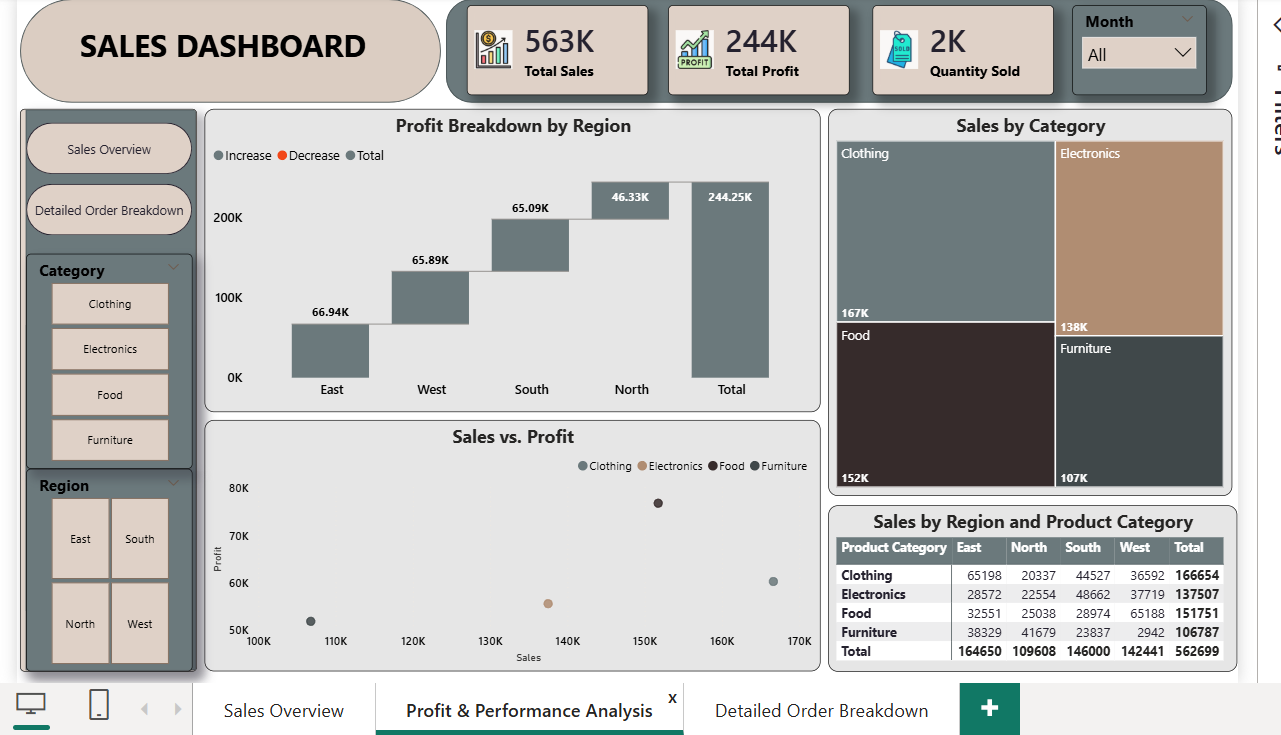

Layout of this report page (visuals, bound fields, positions):
{"tool":"powerbi","page":{"name":"Profit & Performance Analysis","canvas":[1280,720],"ordinal":1},"visuals":[{"type":"shape","box":[3.2,118.3,185.5,590.1],"z":0},{"type":"shape","box":[444.6,3.2,829.9,108.7],"z":1000},{"type":"waterfallChart","title":"Profit Breakdown by Region ","fields":{"Y":["Sum(Sales_Data (1).Profit)"],"Category":["Sales_Data (1).Region"]},"box":[196.7,118.3,646,318.2],"z":2000},{"type":"scatterChart","title":"Sales vs. Profit ","fields":{"Category":["Sales_Data (1).Product Category"],"Y":["Sales_Data (1).Total Profit"],"X":["Sales_Data (1).Total Sales"],"Series":["Sales_Data (1).Product Category"]},"box":[196.7,444.6,646,263.9],"z":3000},{"type":"slicer","fields":{"Values":["Sales_Data (1).Date.Variation.Date Hierarchy.Month"]},"box":[1106.6,9.6,140.7,94.3],"z":4000},{"type":"slicer","fields":{"Values":["Sales_Data (1).Region"]},"box":[9.6,495.7,174.3,212.7],"z":5000},{"type":"slicer","fields":{"Values":["Sales_Data (1).Product Category"]},"box":[9.6,270.2,174.3,225.5],"z":6000},{"type":"treemap","title":"Sales by Category ","fields":{"Values":["Sales_Data (1).Total Sales"],"Group":["Sales_Data (1).Product Category"]},"box":[850.7,118.3,423.8,406.2],"z":7000},{"type":"pivotTable","title":"Sales by Region and Product Category ","fields":{"Columns":["Sales_Data (1).Region"],"Rows":["Sales_Data (1).Product Category"],"Values":["Sales_Data (1).Total Sales"]},"box":[850.7,534.1,428.6,174.3],"z":8000},{"type":"pageNavigator","box":[9.6,132.7,174.3,119.9],"z":9000},{"type":"cardVisual","fields":{"Data":["Sales_Data (1).Total Sales"]},"box":[471.7,9.6,190.3,94.3],"z":10000},{"type":"cardVisual","fields":{"Data":["Sales_Data (1).Total Profit"]},"box":[682.8,9.6,190.3,94.3],"z":11000},{"type":"cardVisual","fields":{"Data":["Sales_Data (1).Total Quantity Sold"]},"box":[897.1,9.6,190.3,94.3],"z":12000},{"type":"shape","box":[3.2,3.2,441.4,108.7],"z":13000},{"type":"textbox","box":[60.8,24,323,67.2],"z":14000}]}

Visuals, with their boxes on the page's 1280x720 design canvas (x1, y1, x2, y2). These are canvas units, not pixel positions in the 1281x735 screenshot, which may show the page scaled, cropped or inside an application window:
shape: 3 118 189 708
shape: 445 3 1274 112
"Profit Breakdown by Region " waterfallChart: 197 118 843 436
"Sales vs. Profit " scatterChart: 197 445 843 708
slicer - Sales_Data (1).Date.Variation.Date Hierarchy.Month: 1107 10 1247 104
slicer - Sales_Data (1).Region: 10 496 184 708
slicer - Sales_Data (1).Product Category: 10 270 184 496
"Sales by Category " treemap: 851 118 1274 524
"Sales by Region and Product Category " pivotTable: 851 534 1279 708
pageNavigator: 10 133 184 253
cardVisual - Sales_Data (1).Total Sales: 472 10 662 104
cardVisual - Sales_Data (1).Total Profit: 683 10 873 104
cardVisual - Sales_Data (1).Total Quantity Sold: 897 10 1087 104
shape: 3 3 445 112
textbox: 61 24 384 91
